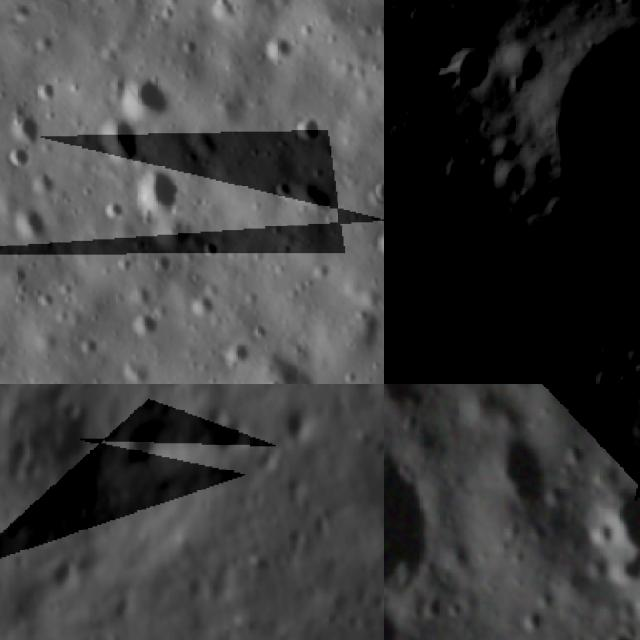crater: (434, 0, 640, 277), (384, 242, 624, 384), (113, 155, 208, 253), (384, 442, 440, 594), (80, 110, 161, 190), (490, 428, 558, 512), (123, 410, 191, 486), (113, 68, 179, 135), (602, 477, 640, 557), (288, 109, 342, 162), (443, 45, 497, 98), (496, 37, 550, 89), (280, 393, 327, 444), (207, 407, 252, 460), (40, 546, 85, 599), (490, 158, 532, 204), (359, 164, 384, 227), (439, 146, 477, 184), (487, 132, 525, 168), (384, 160, 402, 203), (370, 223, 384, 274), (609, 622, 640, 640), (592, 368, 623, 384)
